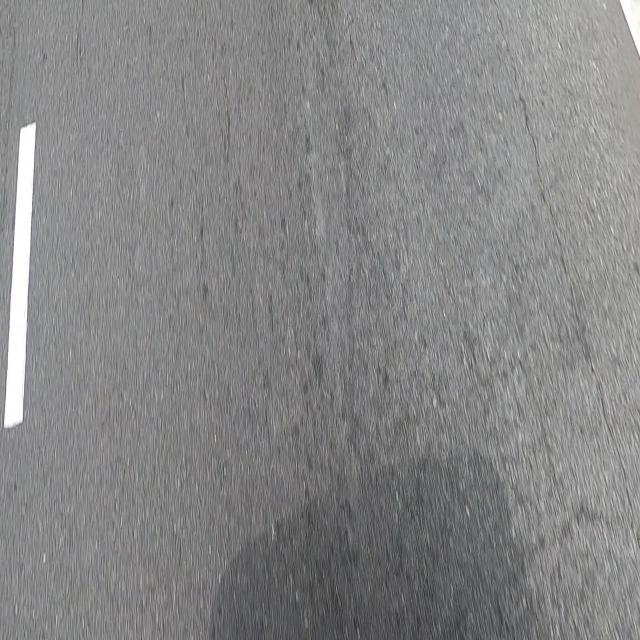Retak-Memanjang: (494, 14, 633, 530)
